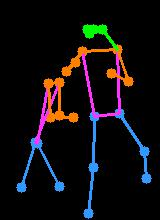normal: (60, 16, 156, 220)
